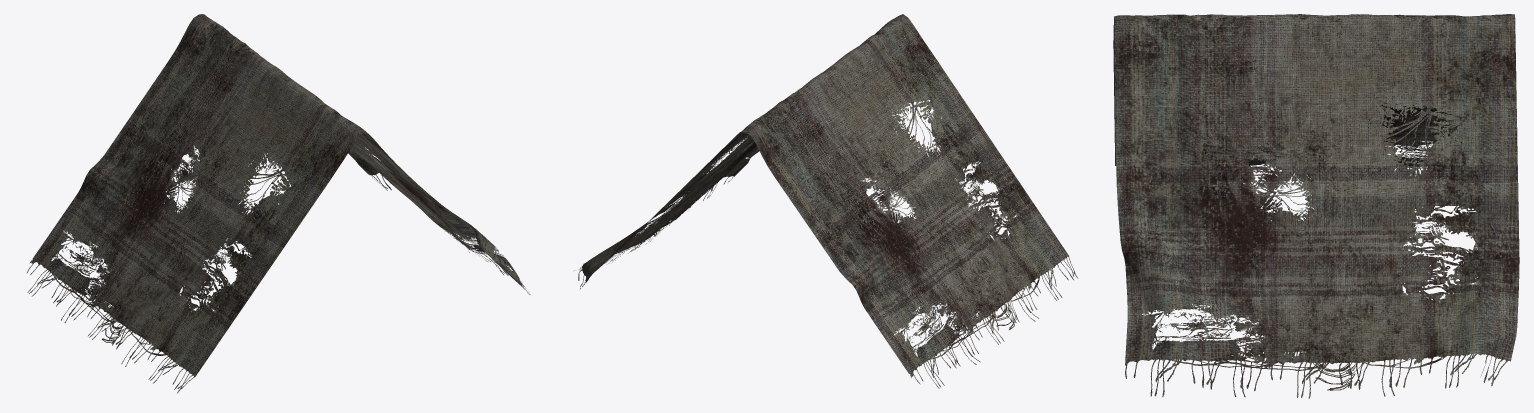
Rendered from P_Rag03.fbx.
The picture shows the model from 3 angles, left to right: view 1: azimuth 30°, elevation 25°; view 2: azimuth 150°, elevation 25°; view 3: azimuth 270°, elevation 25°; orthographic projection. The views are drawn at different scales.
Visible parts, largest first — view 1: P_Rag03; view 2: P_Rag03; view 3: P_Rag03.
Boxes of the visible parts, x1,y1,x2,y2 form: P_Rag03: (27, 14, 530, 393); P_Rag03: (574, 14, 1078, 388); P_Rag03: (1113, 14, 1519, 398).
Size of the model in its own units: 549 by 306 by 403.
